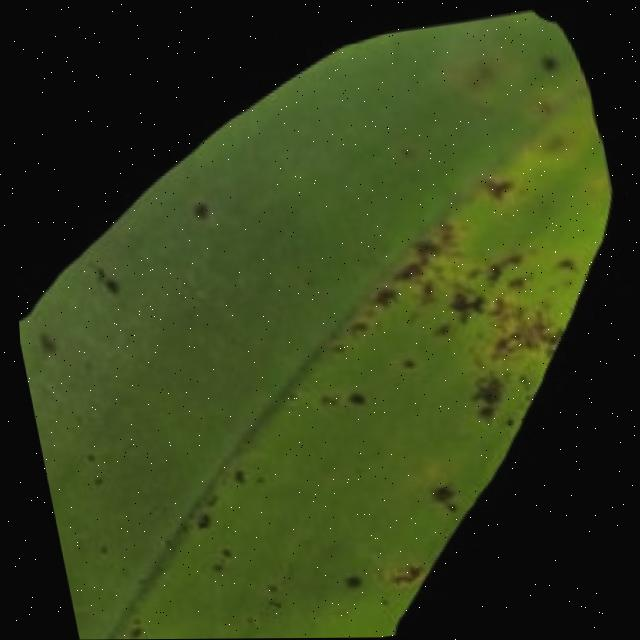mite: (338, 383, 369, 413), (427, 481, 452, 504), (538, 51, 561, 73), (344, 388, 366, 408), (226, 465, 243, 484)
spots: (4, 1, 640, 640)
